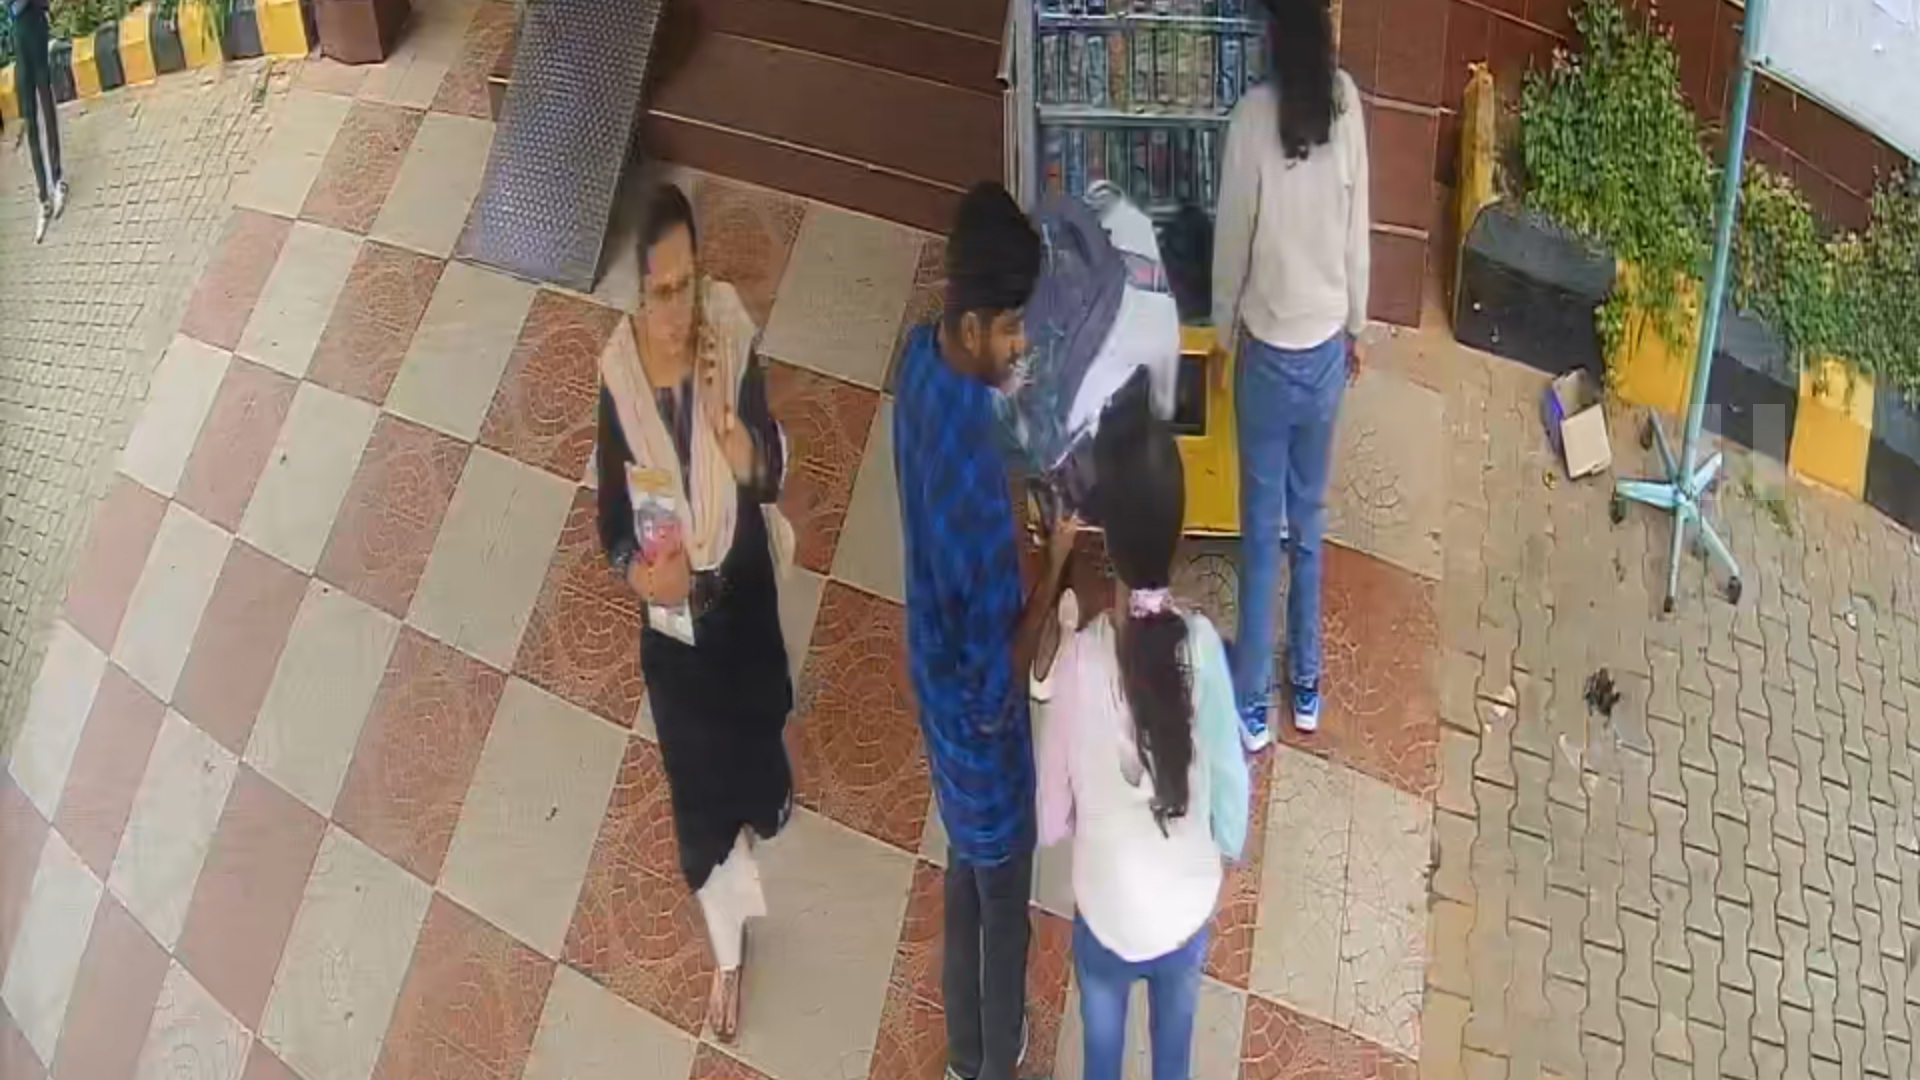intruder: (583, 193, 796, 1033)
